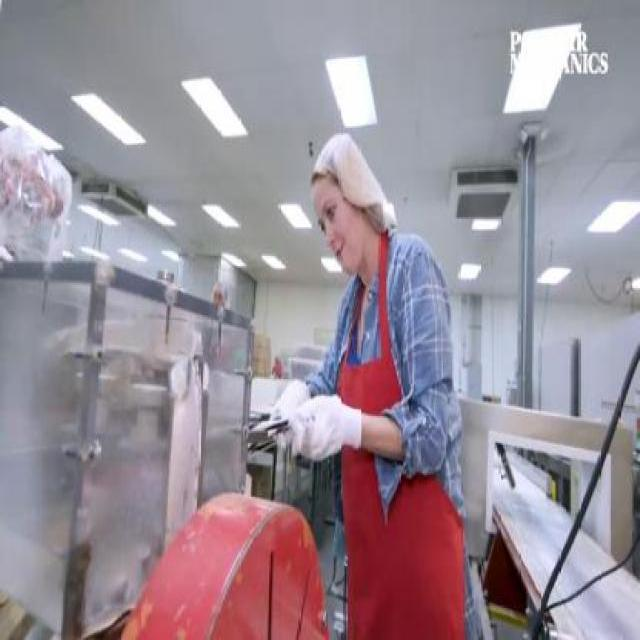hairnet: (311, 133, 376, 206)
